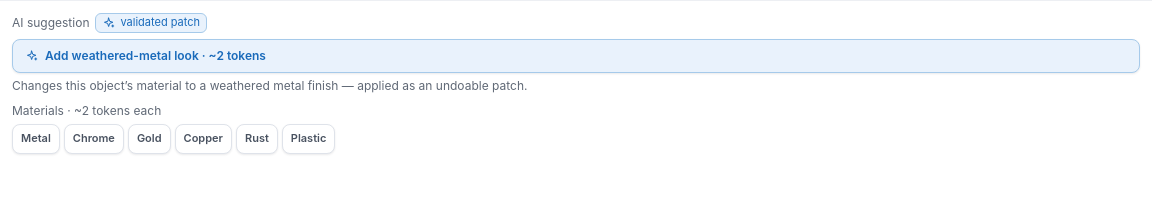
Test: Cancel aborts the confirm — no spend
The image size is (1152, 217).
Click the button with test id "rustier" at (131, 55), box [12, 39, 1140, 73]
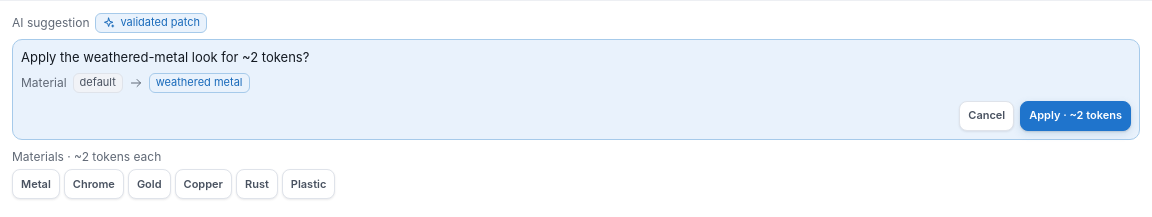
Click the button with test id "rustierCancel" at (987, 116), box [959, 101, 1014, 131]
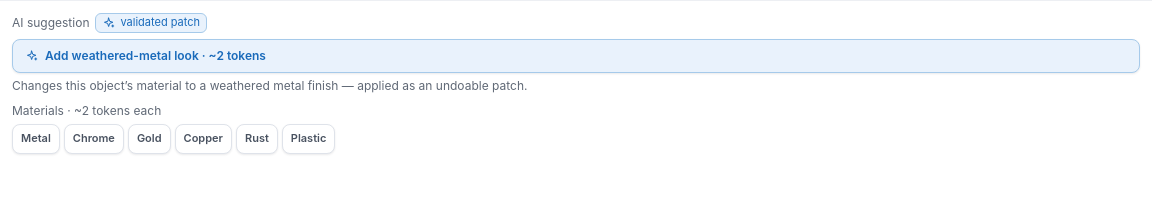
Now the element with test id "rustierConfirm" is gone
